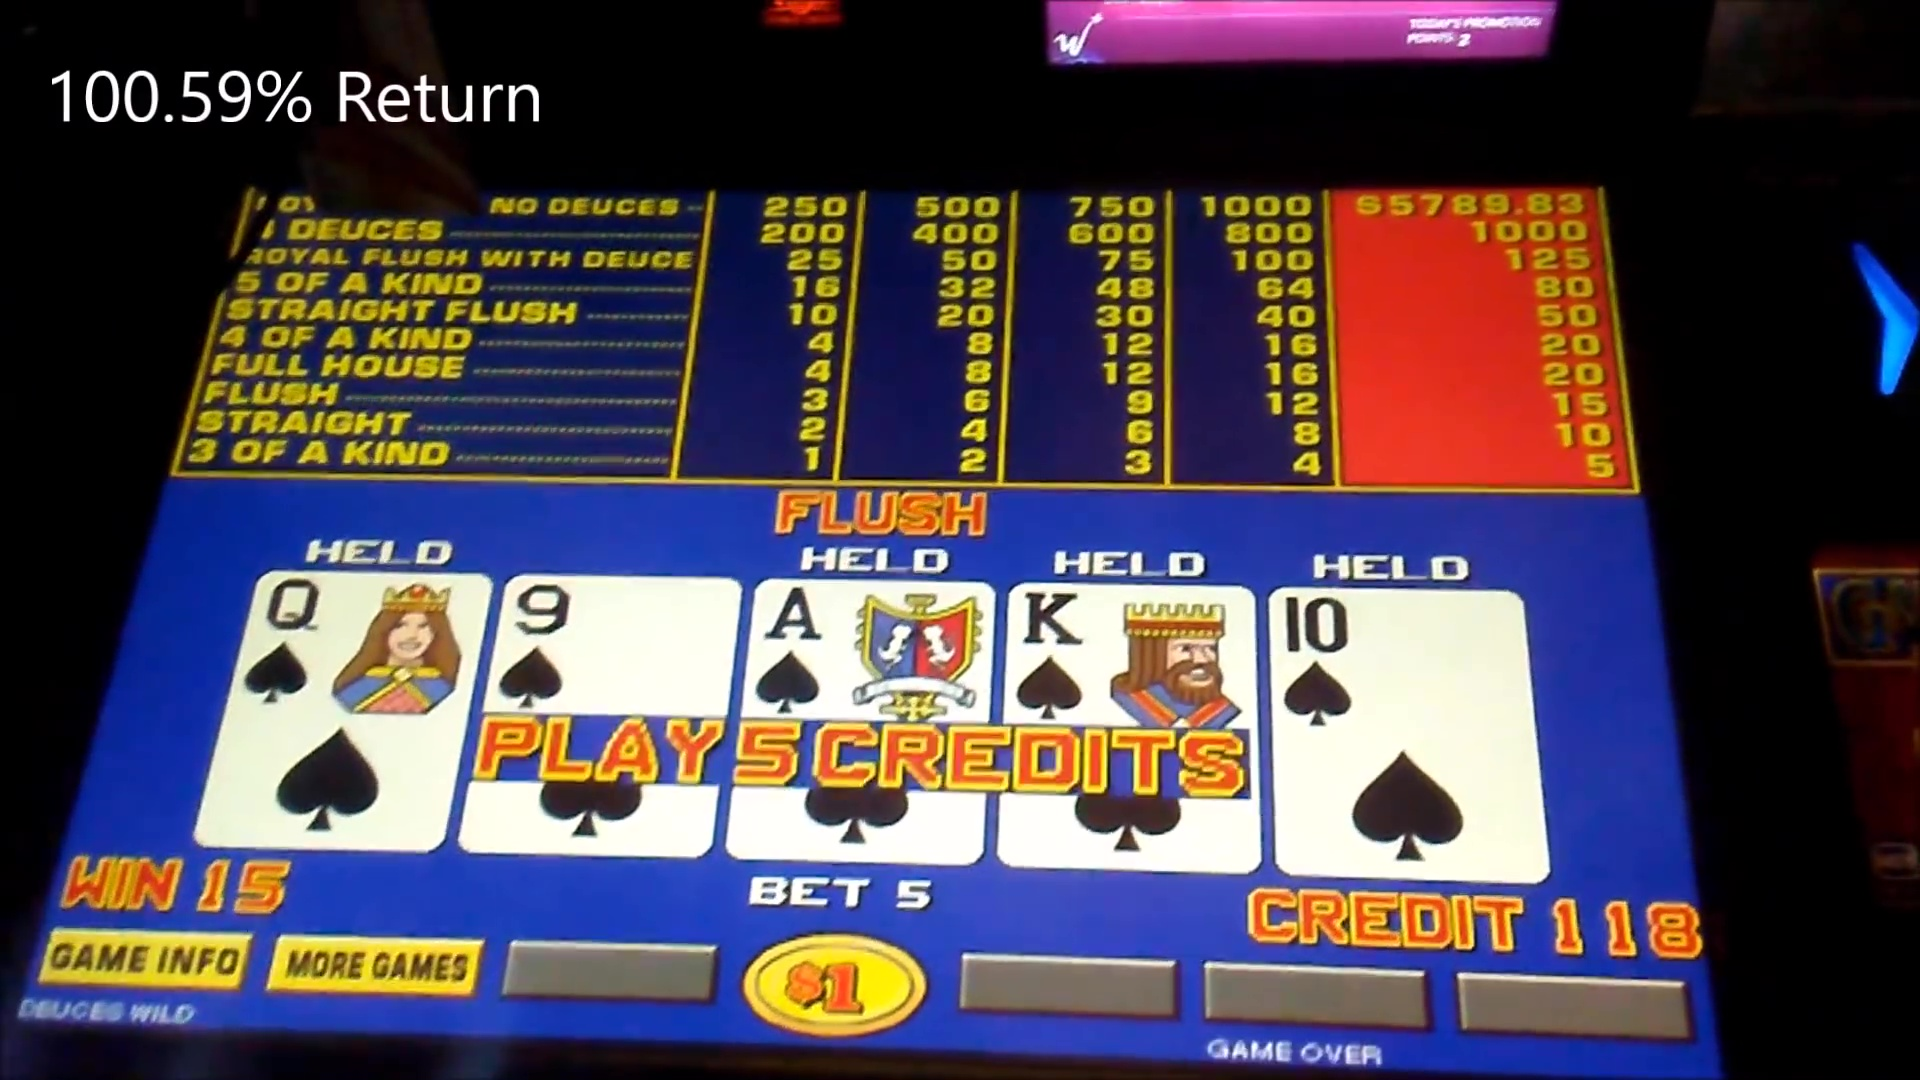S9: (512, 578, 717, 712)
SA: (762, 583, 986, 723)
SK: (1015, 585, 1253, 727)
SQ: (258, 578, 464, 715)
ST: (1271, 593, 1515, 729)
